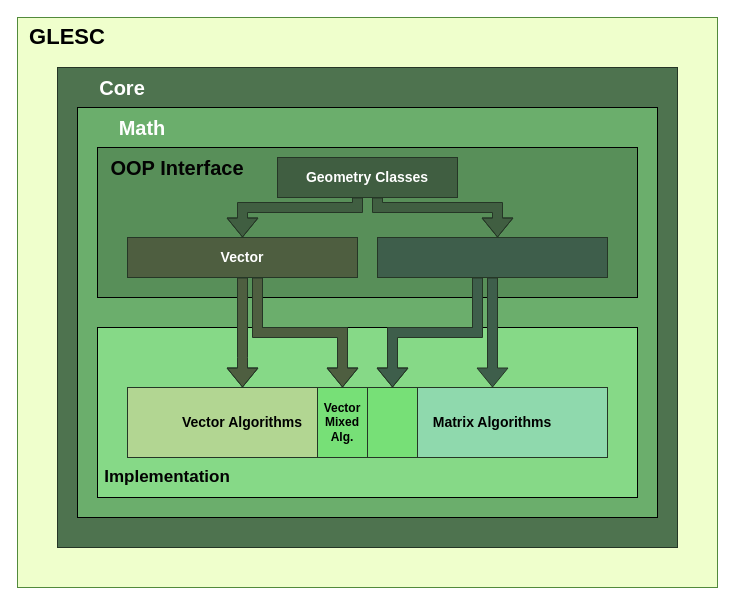
The diagram is 735 pixels wide and 605 high, and some of its shapes have lost their labels. The shapes that lost their labels are listed below. From the top down, each one's centre as x and y in pixels, then its label:
At (x=492, y=257): "Matrix".
At (x=392, y=422): "Matrix Mixed Alg.".
